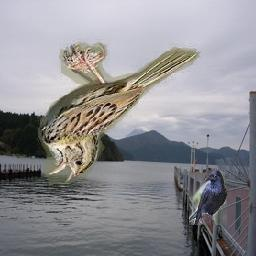Crow: (189, 171, 227, 226)
Sparrow: (37, 40, 201, 185)
